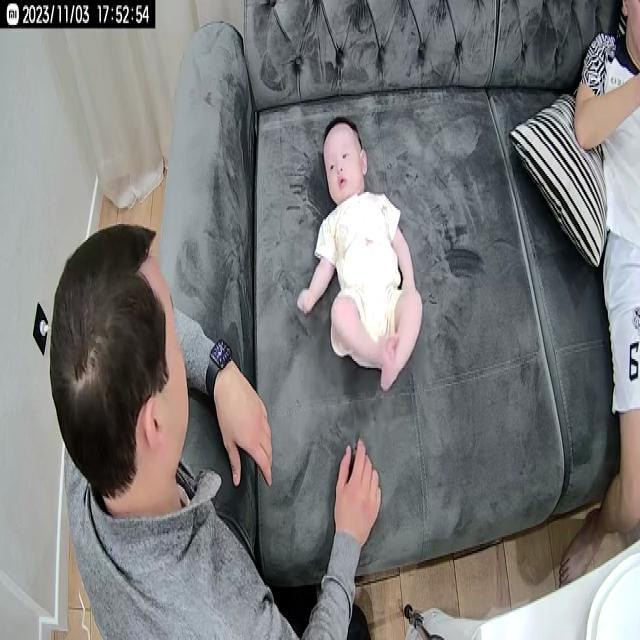baby: (296, 116, 424, 390)
